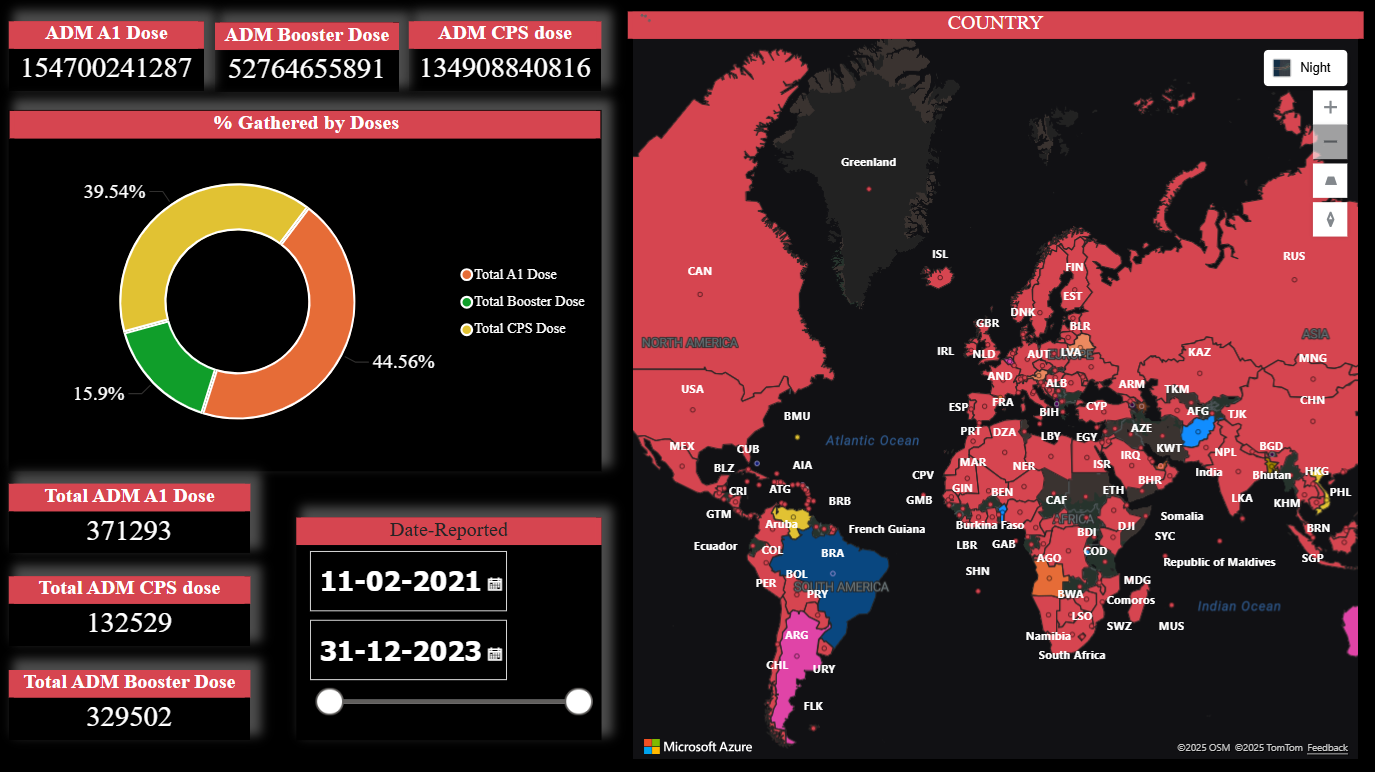

This screenshot's page, from the dashboard's own definition file:
{"tool":"powerbi","page":{"name":"Vaccination ","canvas":[1280,720],"ordinal":3},"visuals":[{"type":"azureMap","fields":{"Category":["COV_VAC_UPTAKE_2021_2023.COUNTRY"]},"box":[583.7,10.5,684.9,700],"z":0},{"type":"card","title":"ADM A1 Dose","fields":{"Values":["Sum(COV_VAC_UPTAKE_2021_2023.COVID_VACCINE_ADM_TOT_A1D)"]},"box":[7.9,19.8,181.4,65.1],"z":1000},{"type":"card","title":"ADM Booster Dose","fields":{"Values":["Sum(COV_VAC_UPTAKE_2021_2023.COVID_VACCINE_ADM_TOT_BOOST)"]},"box":[199.8,20.9,170.9,65.1],"z":2000},{"type":"card","title":"ADM CPS dose","fields":{"Values":["Sum(COV_VAC_UPTAKE_2021_2023.COVID_VACCINE_ADM_TOT_CPS)"]},"box":[380,19.8,179.1,65.1],"z":3000},{"type":"donutChart","title":"% Gathered by Doses","fields":{"Y":["Sum(COV_VAC_UPTAKE_2021_2023.COVID_VACCINE_COV_TOT_A1D)","Sum(COV_VAC_UPTAKE_2021_2023.COVID_VACCINE_COV_TOT_BOOST)","Sum(COV_VAC_UPTAKE_2021_2023.COVID_VACCINE_COV_TOT_CPS)"]},"box":[8.1,102.3,551.2,336],"z":4000},{"type":"card","title":"Total ADM A1 Dose","fields":{"Values":["Sum(COV_VAC_UPTAKE_2021_2023.COVID_VACCINE_COV_TOT_A1D)"]},"box":[8.1,450.2,224.4,65.1],"z":5000},{"type":"card","title":"Total ADM Booster Dose","fields":{"Values":["Sum(COV_VAC_UPTAKE_2021_2023.COVID_VACCINE_COV_TOT_CPS)"]},"box":[8.1,623.4,224.4,65.1],"z":6000},{"type":"card","title":"Total ADM CPS dose","fields":{"Values":["Sum(COV_VAC_UPTAKE_2021_2023.COVID_VACCINE_COV_TOT_BOOST)"]},"box":[8.1,536.2,224.4,65.1],"z":7000},{"type":"slicer","title":"Date-Reported","fields":{"Values":["COV_VAC_UPTAKE_2021_2023.DATE"]},"box":[275.6,481.4,283.7,207],"z":8000}]}

Visuals, with their boxes in screenshot pixels (x1, y1, x2, y2), scaled from the page's 1280x720 canvas onto the 1375x772 screenshot:
azureMap - COV_VAC_UPTAKE_2021_2023.COUNTRY: (627,11,1363,762)
"ADM A1 Dose" card: (8,21,203,91)
"ADM Booster Dose" card: (215,22,398,92)
"ADM CPS dose" card: (408,21,601,91)
"% Gathered by Doses" donutChart: (9,110,601,470)
"Total ADM A1 Dose" card: (9,483,250,553)
"Total ADM Booster Dose" card: (9,668,250,738)
"Total ADM CPS dose" card: (9,575,250,645)
"Date-Reported" slicer: (296,516,601,738)
